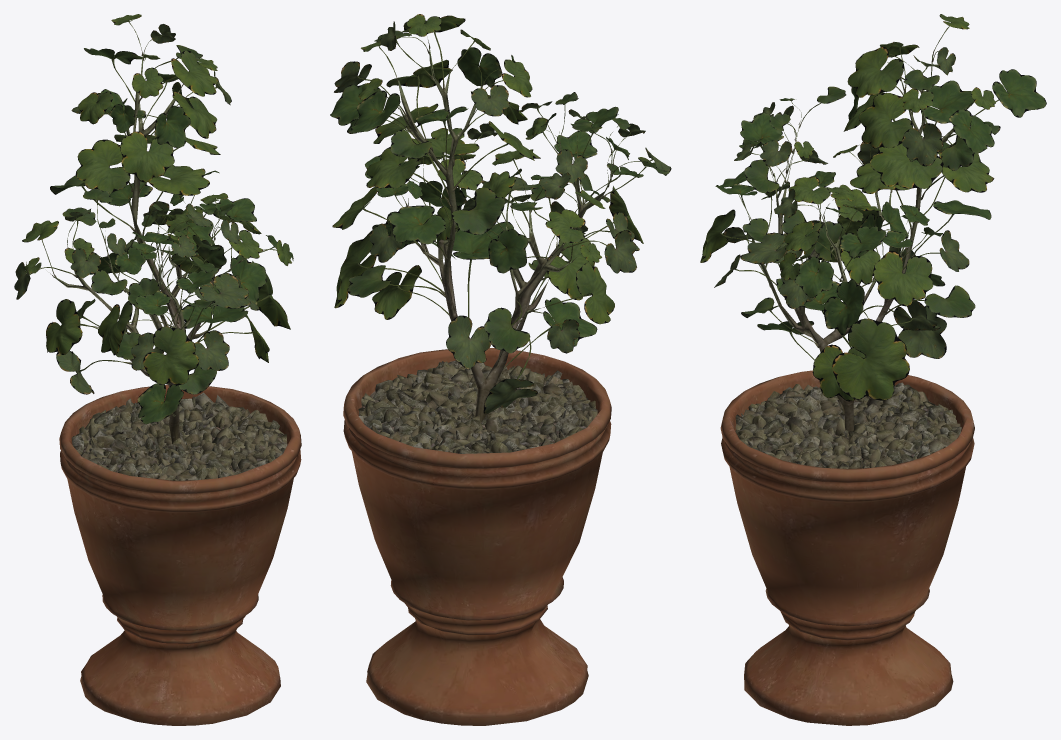
The model's file is potted_plant_01.glb.
3 views of the same model, side by side, from view 1: azimuth 30°, elevation 25°; view 2: azimuth 150°, elevation 25°; view 3: azimuth 270°, elevation 25° (orthographic). The views are drawn at different scales.
Parts seen in each view (by area): view 1: potted_plant_01_stem, potted_plant_01_leaves; view 2: potted_plant_01_stem, potted_plant_01_leaves; view 3: potted_plant_01_stem, potted_plant_01_leaves.
Part boxes in pixels (bbox=[...]): potted_plant_01_stem: bbox=[54, 54, 301, 725]; potted_plant_01_leaves: bbox=[14, 14, 293, 424]; potted_plant_01_stem: bbox=[343, 48, 612, 725]; potted_plant_01_leaves: bbox=[330, 14, 671, 414]; potted_plant_01_stem: bbox=[720, 55, 974, 725]; potted_plant_01_leaves: bbox=[700, 14, 1046, 401].
Size of the model in its own units: 0.5874 by 1.34 by 0.6336.
Materials: 2 (2 with a texture image).
